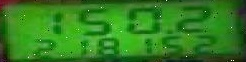-: (162, 26, 172, 33)
0: (124, 5, 159, 32)
1: (45, 8, 68, 34), (76, 37, 88, 55), (142, 35, 152, 54)
2: (175, 3, 215, 33), (28, 36, 61, 56), (192, 32, 218, 51)
5: (73, 5, 109, 35), (159, 34, 182, 53)
8: (96, 36, 119, 55)
